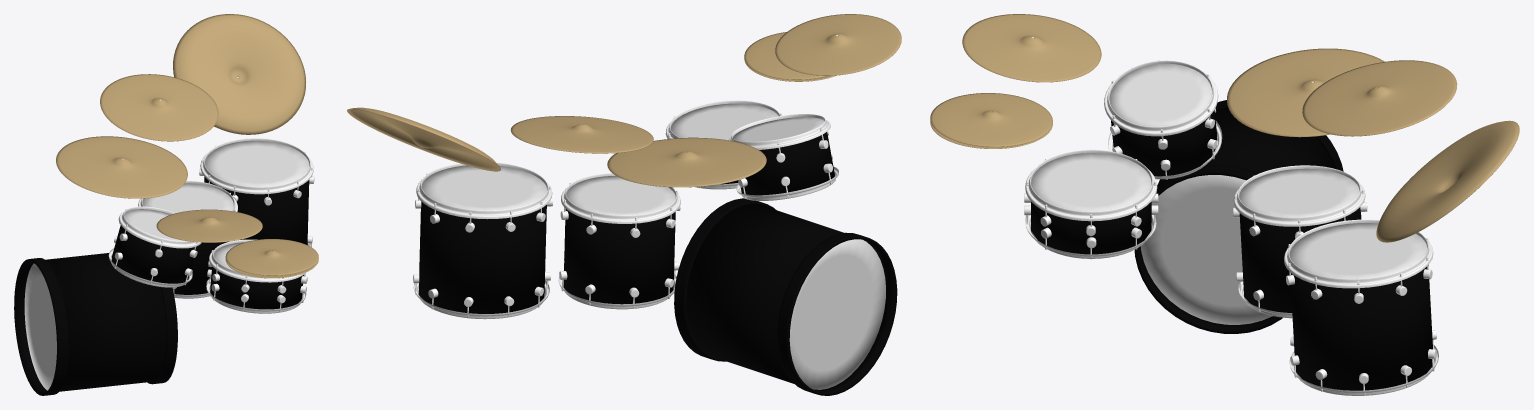
File: DrumKit.fbx
3 renders of one model, left to right at view 1: azimuth 30°, elevation 25°; view 2: azimuth 150°, elevation 25°; view 3: azimuth 270°, elevation 25°, orthographic. The views are drawn at different scales.
Visible parts, largest first — view 1: Bass Drum, China 21, Tom.002, Ride 20, Crash 18, Tom, Snare, Tom.001, Crash 16, HiHat 14, HiHat 14.001; view 2: Bass Drum, Tom.002, Tom.001, Tom, Ride 20, Crash 16, Crash 18, China 21, Snare, HiHat 14; view 3: Tom.002, Bass Drum, Snare, Tom.001, Tom, Crash 18, China 21, Crash 16, Ride 20, HiHat 14.
Boxes of the visible parts, bbox=[...] form: Bass Drum: bbox=[14, 253, 177, 395]; China 21: bbox=[173, 14, 305, 134]; Tom.002: bbox=[199, 138, 314, 246]; Ride 20: bbox=[56, 136, 187, 198]; Crash 18: bbox=[100, 74, 218, 141]; Tom: bbox=[108, 206, 201, 287]; Snare: bbox=[206, 239, 307, 313]; Tom.001: bbox=[138, 180, 237, 298]; Crash 16: bbox=[156, 209, 262, 242]; HiHat 14: bbox=[225, 239, 318, 275]; HiHat 14.001: bbox=[225, 251, 318, 278]; Bass Drum: bbox=[674, 198, 897, 395]; Tom.002: bbox=[413, 162, 552, 319]; Tom.001: bbox=[558, 172, 680, 309]; Tom: bbox=[728, 114, 838, 200]; Ride 20: bbox=[607, 137, 766, 187]; Crash 16: bbox=[775, 14, 901, 75]; Crash 18: bbox=[510, 116, 653, 153]; China 21: bbox=[347, 107, 500, 171]; Snare: bbox=[665, 100, 782, 189]; HiHat 14: bbox=[744, 32, 826, 79]; Tom.002: bbox=[1284, 219, 1438, 395]; Bass Drum: bbox=[1134, 100, 1343, 333]; Snare: bbox=[1024, 149, 1158, 259]; Tom.001: bbox=[1233, 165, 1367, 318]; Tom: bbox=[1104, 60, 1222, 179]; Crash 18: bbox=[1302, 60, 1457, 136]; China 21: bbox=[1376, 120, 1519, 242]; Crash 16: bbox=[962, 14, 1101, 82]; Ride 20: bbox=[1227, 48, 1384, 137]; HiHat 14: bbox=[930, 93, 1052, 146].
Bounding box in the file's own units: 153 × 99.98 × 171.
